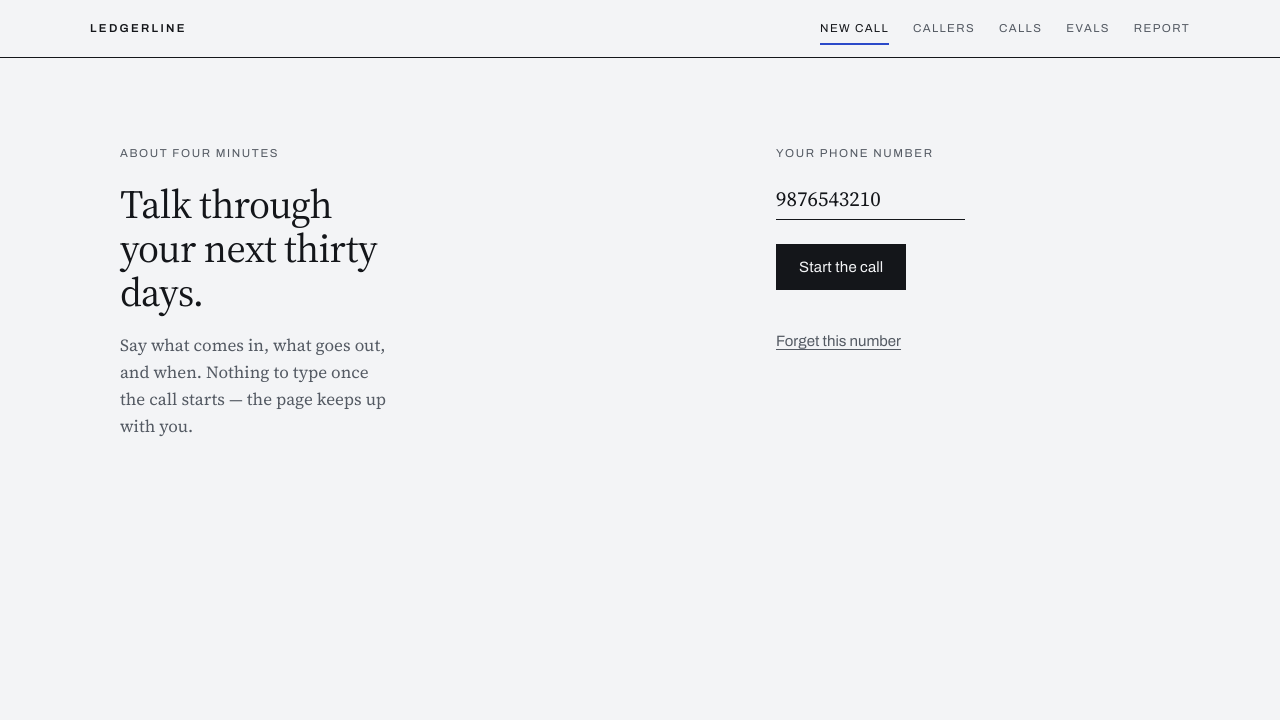
it: App › surfaces a failed start and offers a retry
Click the button "Start the call".
click(841, 267)  # box [776,244,906,290]
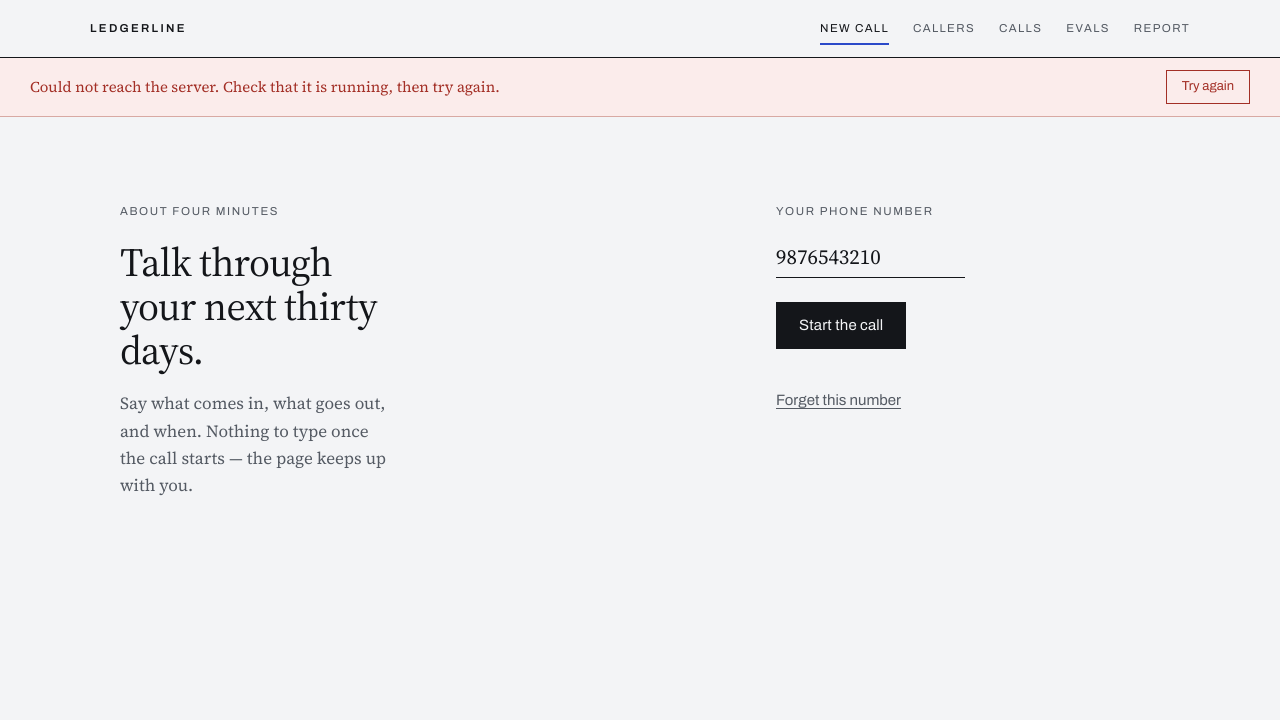
Now the message shows "Could not reach the server", box [30,76,500,97]
Now the button "Try again" is shown, box [1166,70,1250,104]
